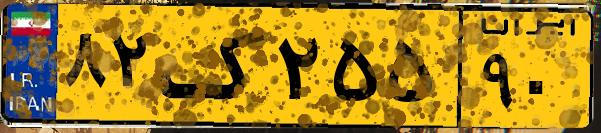0: (525, 38, 570, 115)
2: (270, 28, 330, 110), (110, 28, 158, 98)
5: (385, 28, 445, 110), (330, 28, 385, 110)
8: (57, 26, 110, 100)
9: (475, 38, 525, 113)
ک: (158, 12, 270, 120)
